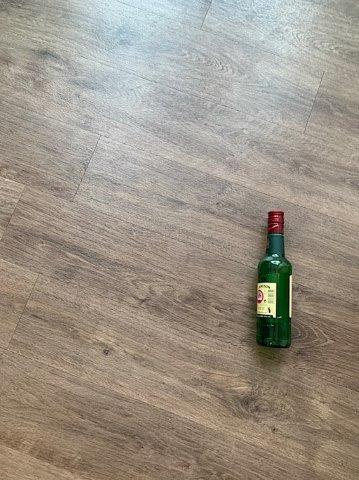botolkaca: (257, 211, 291, 346)
